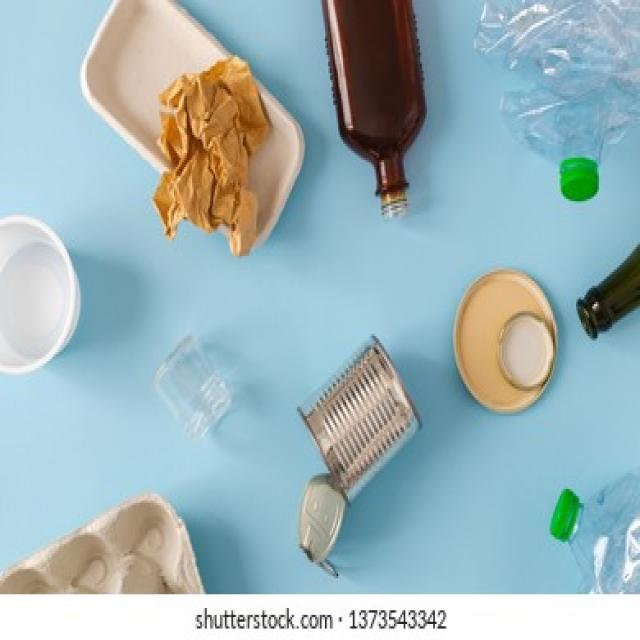cardboard: (3, 489, 194, 597)
glass: (336, 5, 432, 217), (582, 249, 640, 329)
metal: (308, 350, 406, 482)
plastic: (85, 9, 292, 240), (476, 7, 640, 199), (6, 215, 86, 377), (153, 350, 230, 434)
